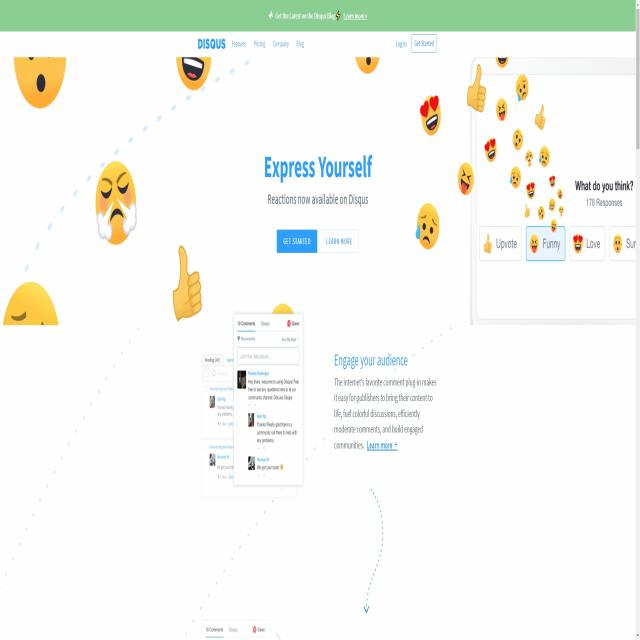menu-bar: (392, 33, 436, 51)
tab-bar: (196, 33, 308, 54)
